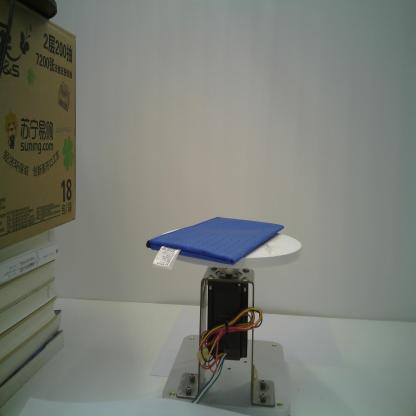Stationery: (144, 213, 286, 270)
